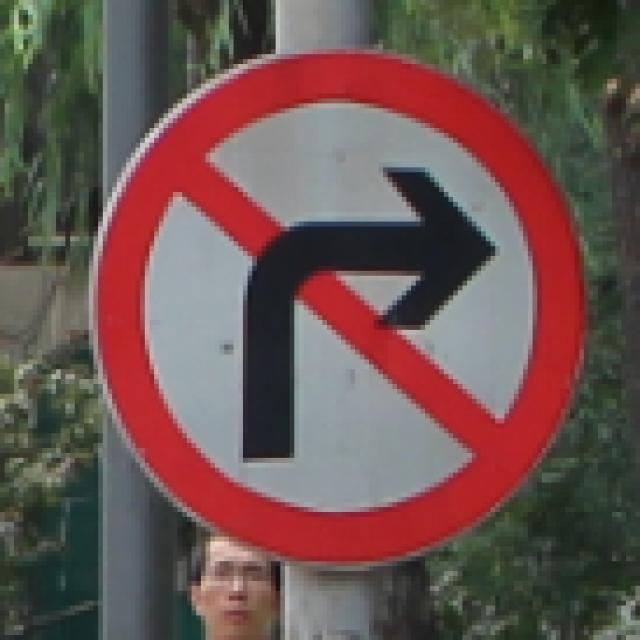Not that Direction: (91, 50, 612, 584)
